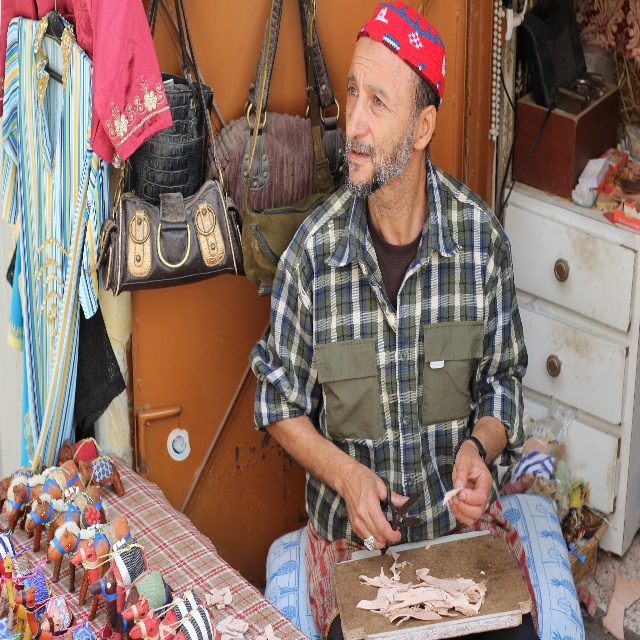Sin_guantes: (344, 459, 410, 551), (448, 440, 493, 527)
